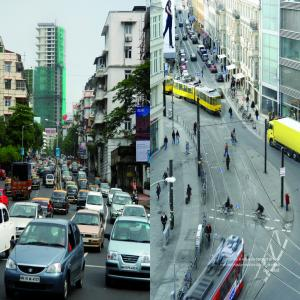Vehicle-registration-plate: (21, 277, 41, 284), (123, 266, 139, 271), (83, 240, 89, 244), (17, 232, 22, 236)
